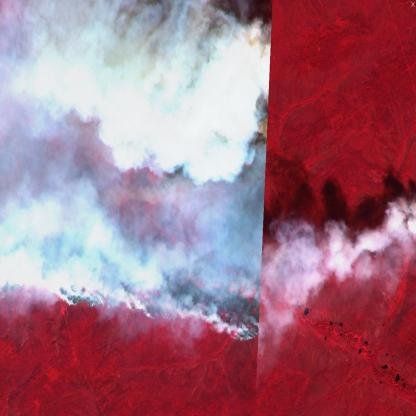fire: (0, 101, 270, 344)
